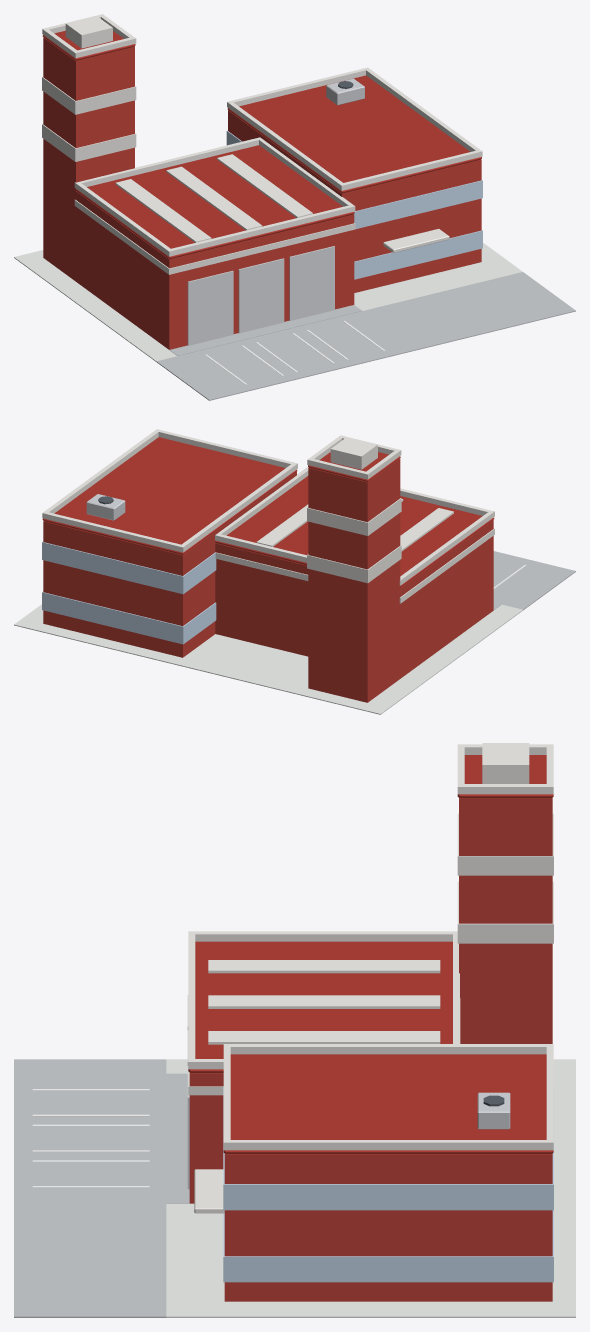
Rendered from firestation.glb.
3 renders of one model, top to bottom at view 1: azimuth 30°, elevation 25°; view 2: azimuth 150°, elevation 25°; view 3: azimuth 270°, elevation 25°, orthographic. The views are drawn at different scales.
Visible parts, largest first — view 1: firestation; view 2: firestation; view 3: firestation.
Part boxes in pixels (<box>): firestation: <box>14,14,575,400</box>; firestation: <box>14,429,575,714</box>; firestation: <box>14,743,575,1317</box>.
Size of the model in its own units: 26 by 16.12 by 24.
